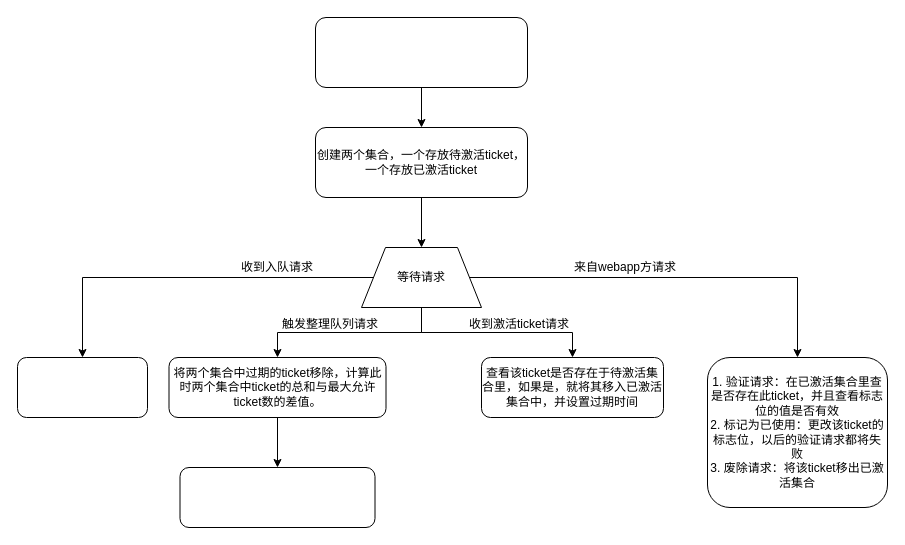
This 905x545 diagram has some shape labels left out. The shapes that lost their labels are listed below. From the top down, each one's centre as x and y in pixels, then its label:
(x=421, y=52): 创建一个Queue并初始化属性，如head，tail
(x=82, y=387): 将当前队尾tail值，作为新ticket的序号，并将tail加1
(x=277, y=497): 从等待队列中取出相应数量的ticket，为每个ticket设置过期时间，放入等待激活集合中。
